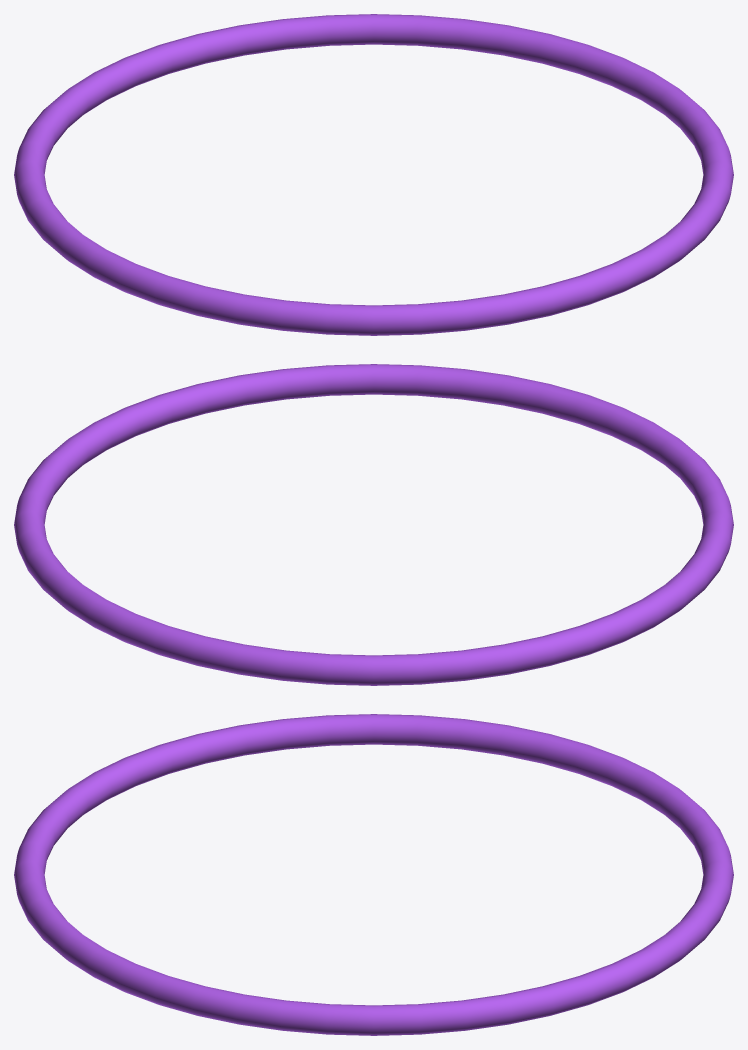
The model's file is nexus_halo.fbx.
The picture shows the model from 3 angles, top to bottom: view 1: azimuth 30°, elevation 25°; view 2: azimuth 150°, elevation 25°; view 3: azimuth 270°, elevation 25°; orthographic projection.
Visible parts, largest first — view 1: part_halo; view 2: part_halo; view 3: part_halo.
Part boxes in pixels (box(x1,y1,x2,y2)): part_halo: box(14, 14, 733, 335); part_halo: box(14, 364, 733, 685); part_halo: box(14, 714, 733, 1035).
Bounding box in the file's own units: 2.3 × 0.0979 × 2.3.
